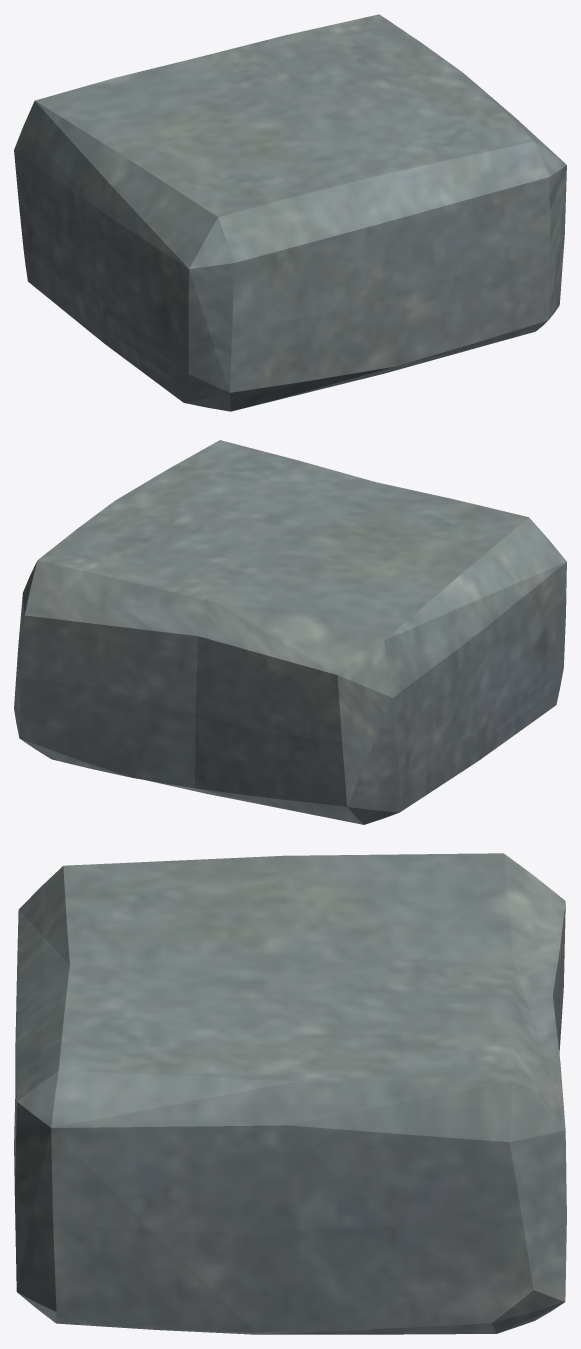
Rendered from rocks_012.fbx.
3 views of the same model, one above another, from view 1: azimuth 30°, elevation 25°; view 2: azimuth 150°, elevation 25°; view 3: azimuth 270°, elevation 25° (orthographic). The views are drawn at different scales.
Parts seen in each view (by area): view 1: rocks.012; view 2: rocks.012; view 3: rocks.012.
Boxes of the visible parts, left/top/right/bottom form: rocks.012: left=14, top=14, right=566, bottom=411; rocks.012: left=14, top=440, right=566, bottom=824; rocks.012: left=14, top=853, right=566, bottom=1334.
Bounding box in the file's own units: 150 × 74.8 × 140.
